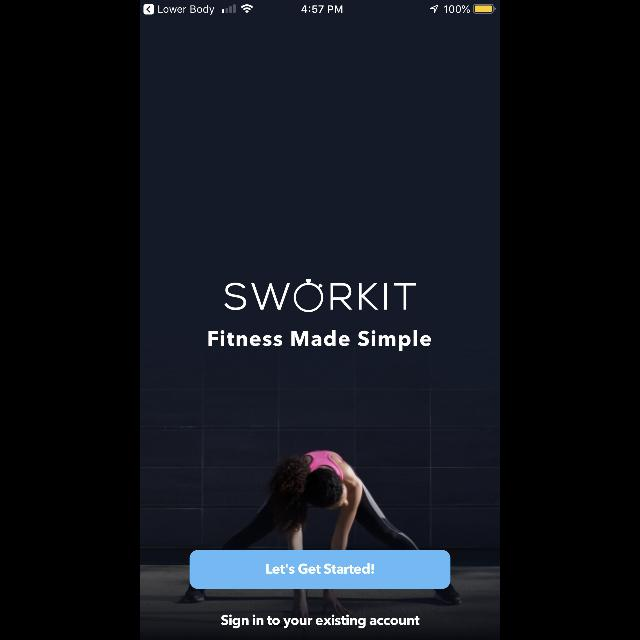backgroundimage: (140, 1, 500, 640)
image: (224, 280, 416, 312)
text: (208, 330, 432, 350), (220, 614, 420, 628)
textbutton: (190, 550, 450, 590)
uppertaskbar: (140, 0, 500, 14)
